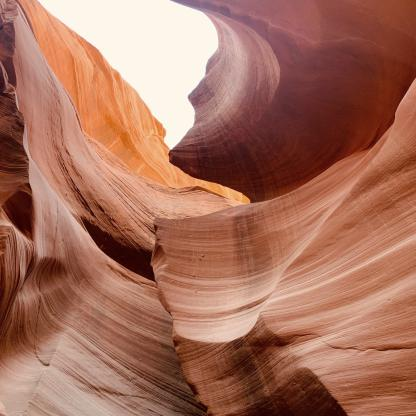Sedimentary_Sandstone: (150, 209, 416, 415), (1, 0, 49, 415)
